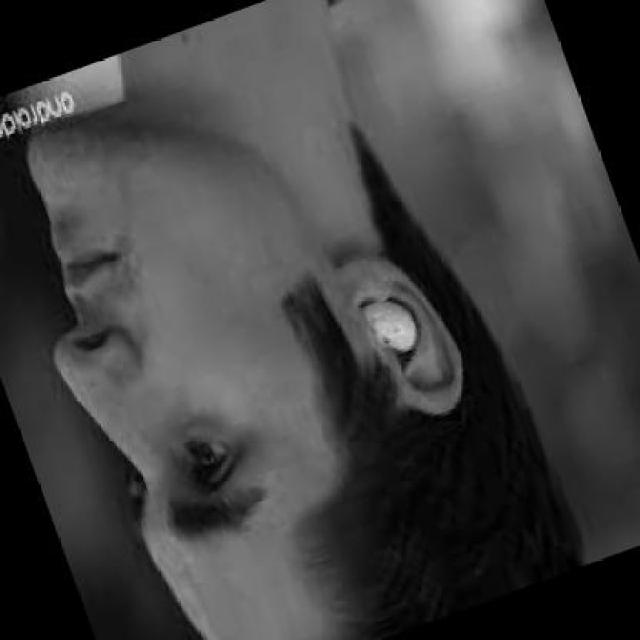earphone: (349, 282, 440, 364)
